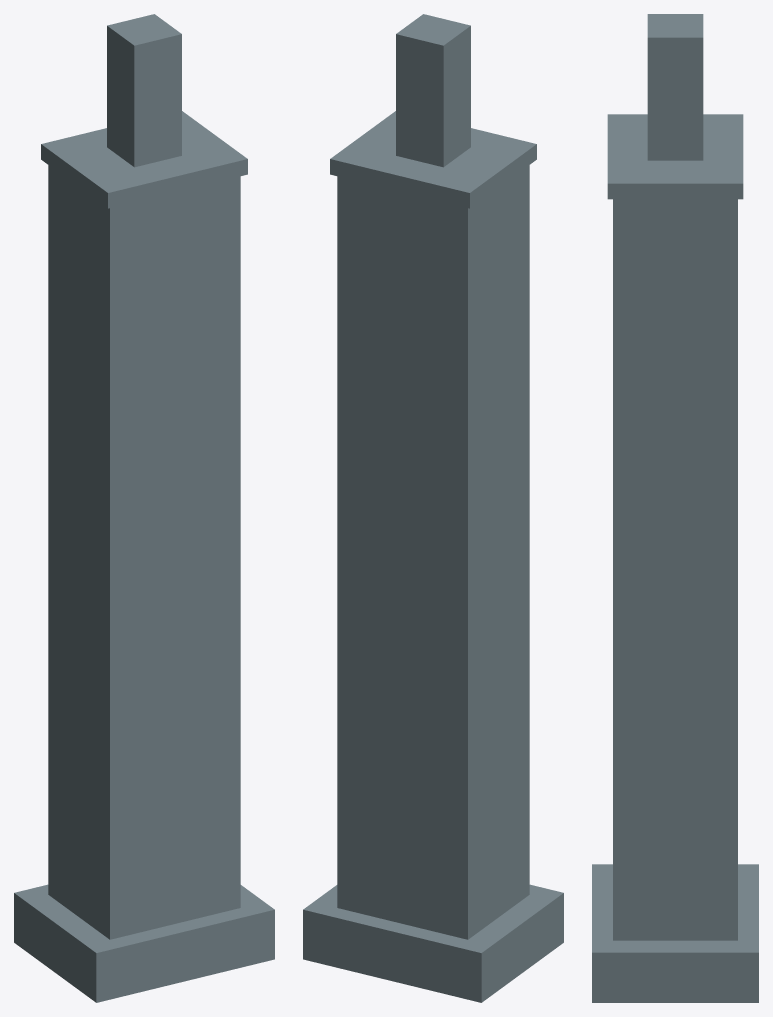
Rendered from building_glass.glb.
The picture shows the model from 3 angles, left to right: view 1: azimuth 30°, elevation 25°; view 2: azimuth 150°, elevation 25°; view 3: azimuth 270°, elevation 25°; orthographic projection.
Visible parts, largest first — view 1: building_glass; view 2: building_glass; view 3: building_glass.
Part boxes in pixels (box(x1,y1,x2,y2)): building_glass: box(14, 14, 274, 1002); building_glass: box(303, 14, 563, 1002); building_glass: box(592, 14, 758, 1002).
Bounding box in the file's own units: 30 × 148 × 24.
